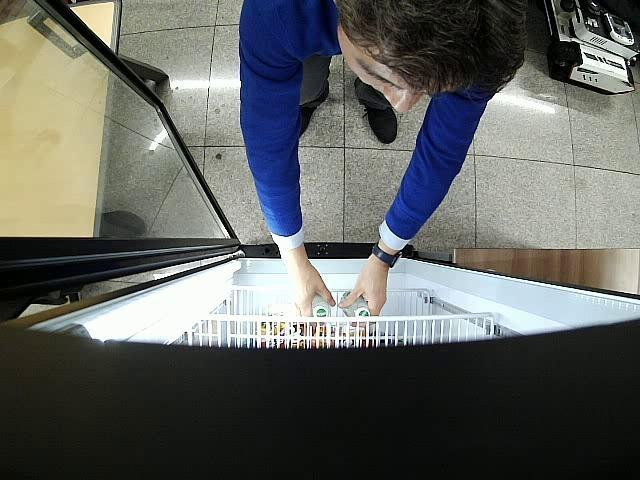18_trevi: (340, 291, 370, 317), (312, 294, 331, 318)
